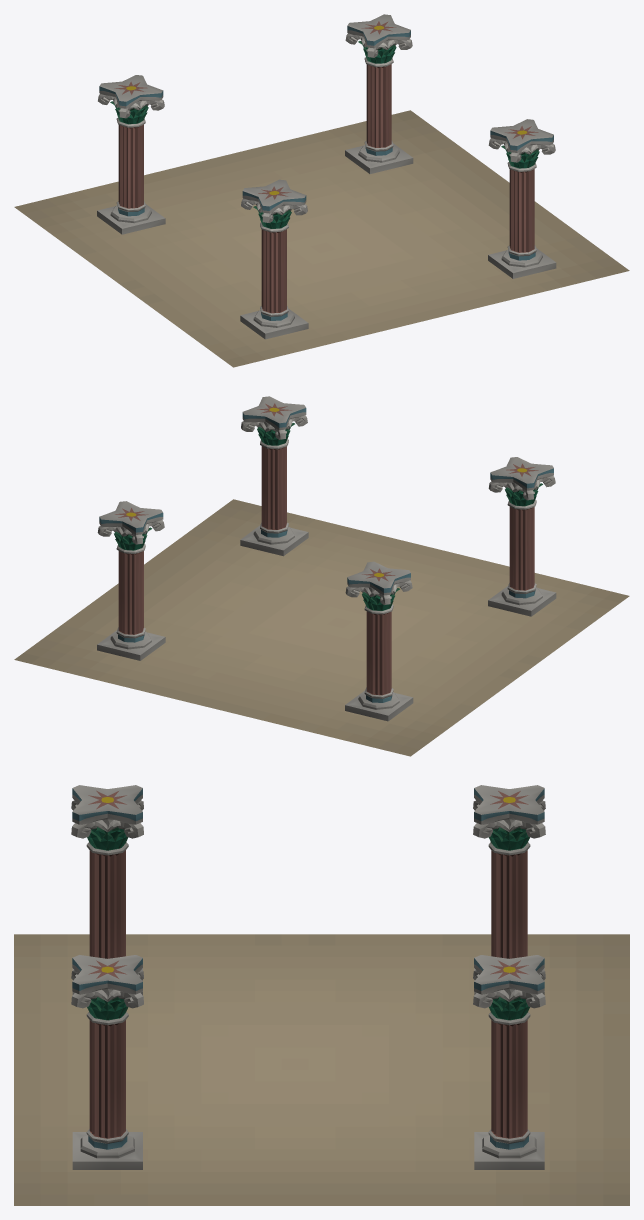
The model's file is colosseum_partial.glb.
3 renders of one model, top to bottom at view 1: azimuth 30°, elevation 25°; view 2: azimuth 150°, elevation 25°; view 3: azimuth 270°, elevation 25°, orthographic. The views are drawn at different scales.
Parts seen in each view (by area): view 1: region_0_0_7216; view 2: region_0_0_7216; view 3: region_0_0_7216.
Part boxes in pixels (x1=…): region_0_0_7216: x1=14, y1=14, x2=629, y2=367; region_0_0_7216: x1=14, y1=396, x2=629, y2=756; region_0_0_7216: x1=14, y1=785, x2=629, y2=1205.
Size of the model in its own units: 24 by 7.63 by 23.
